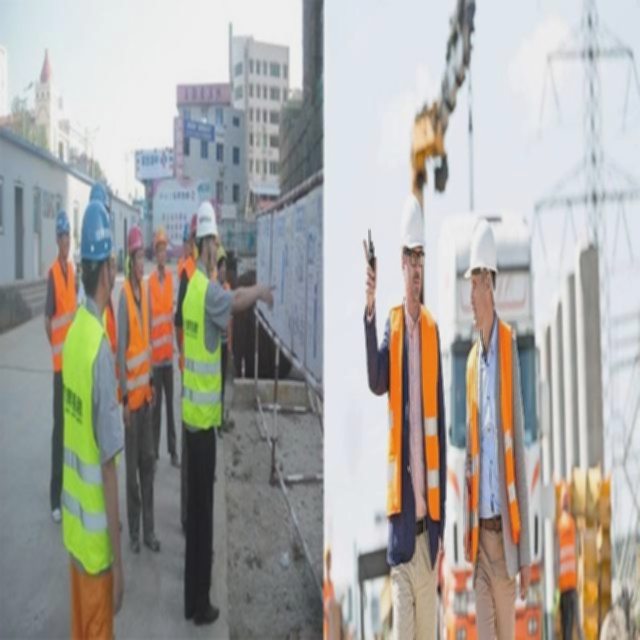Con_Casco: (465, 216, 498, 328), (401, 192, 426, 295)
Con_Chaleco: (382, 303, 443, 517), (62, 313, 115, 555), (466, 332, 520, 547), (181, 274, 221, 429), (149, 268, 173, 362)
